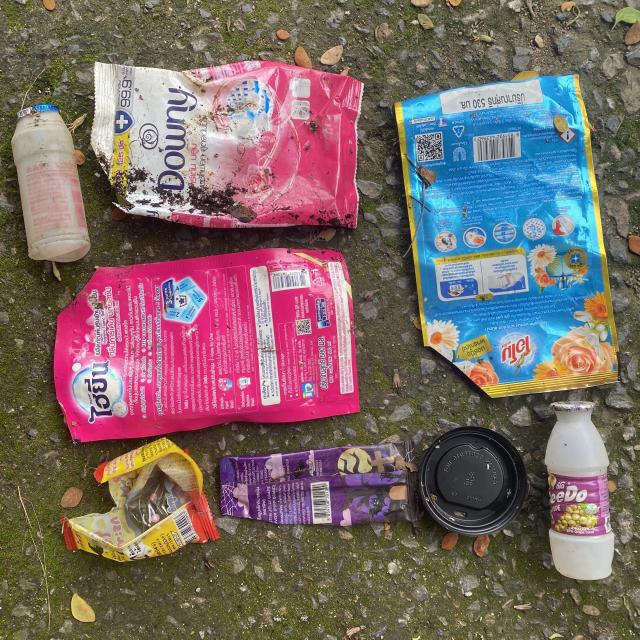HDPE Plastic: (11, 105, 90, 262), (546, 404, 614, 580)
Single-Use-Plastic: (419, 428, 526, 536)
